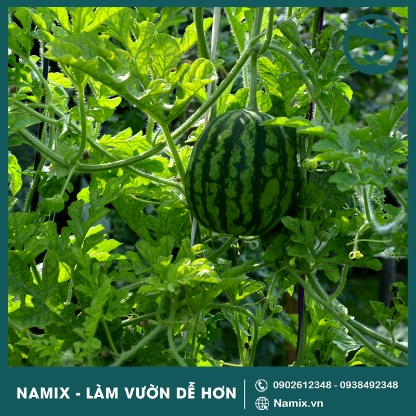duahau: (186, 86, 313, 255)
